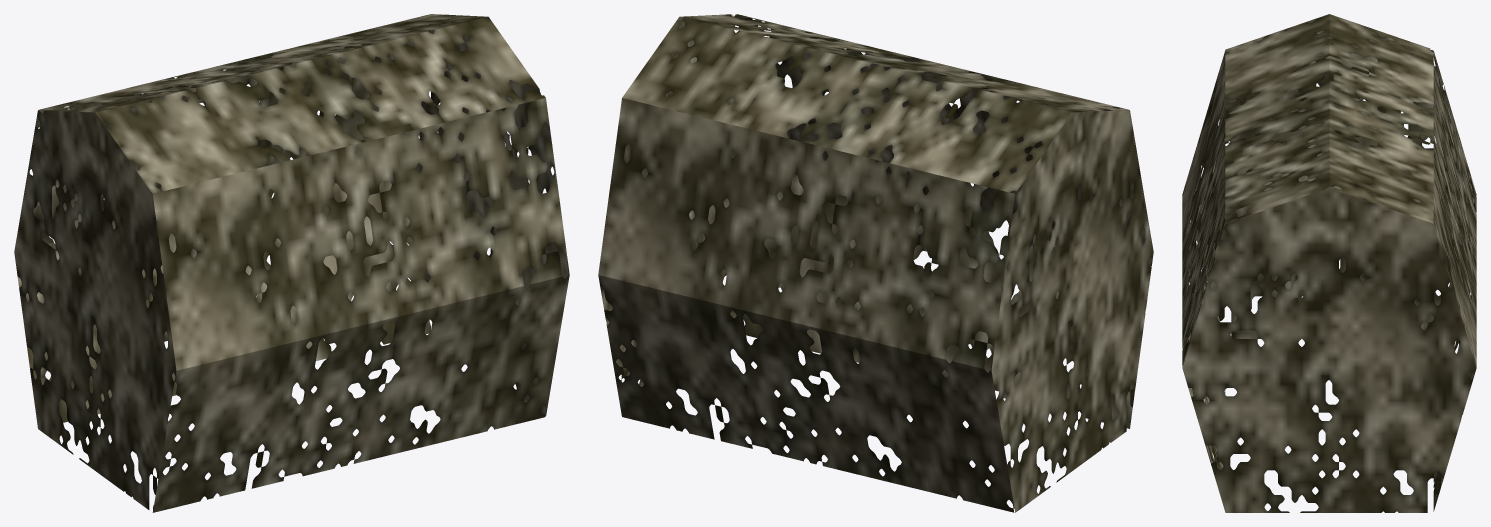
Rendered from bush_long_half_dead.fbx.
3 views of the same model, side by side, from view 1: azimuth 30°, elevation 25°; view 2: azimuth 150°, elevation 25°; view 3: azimuth 270°, elevation 25° (orthographic). The views are drawn at different scales.
Parts seen in each view (by area): view 1: bush_long_half_dead; view 2: bush_long_half_dead; view 3: bush_long_half_dead.
Part boxes in pixels (bbox=[...]): bush_long_half_dead: bbox=[14, 14, 569, 512]; bush_long_half_dead: bbox=[598, 14, 1153, 512]; bush_long_half_dead: bbox=[1182, 14, 1476, 512].
Size of the model in its own units: 101 by 87.65 by 71.91.
Materials: 1 (1 with a texture image).
